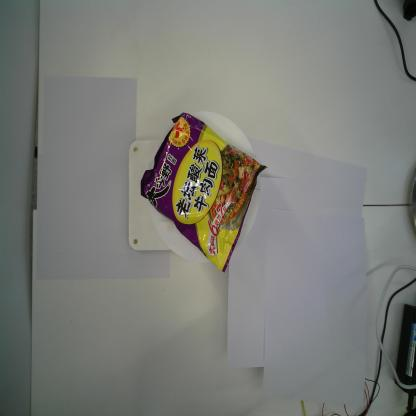Instant Noodles: (139, 111, 269, 274)
